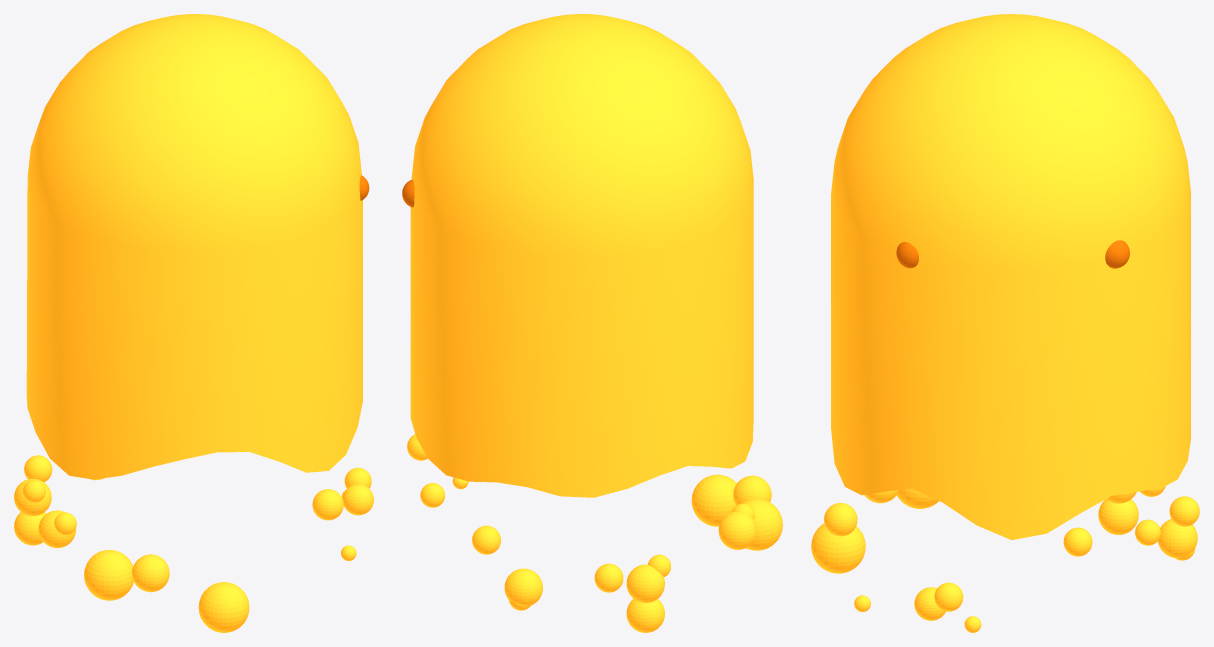
The model's file is ghosts gold.fbx.
3 views of the same model, side by side, from view 1: azimuth 30°, elevation 25°; view 2: azimuth 150°, elevation 25°; view 3: azimuth 270°, elevation 25° (orthographic). The views are drawn at different scales.
Parts seen in each view (by area): view 1: Sphere.049, Sphere.059, Sphere.069, Sphere.060, Sphere.068, Sphere.058, Sphere.070, Sphere.052, Sphere.055, Sphere.053; view 2: Sphere.049, Sphere.059, Sphere.069, Sphere.070, Sphere.052, Sphere.062, Sphere.055, Sphere.060, Sphere.053, Sphere.063; view 3: Sphere.049, Sphere.059, Sphere.062, Sphere.055, Sphere.068, Sphere.063, Sphere.058, Sphere.061, Sphere.071, Sphere.069, Sphere.051, Sphere.066.
Part boxes in pixels (bbox=[...]): Sphere.049: bbox=[26, 14, 362, 479]; Sphere.059: bbox=[198, 582, 249, 632]; Sphere.069: bbox=[84, 549, 133, 600]; Sphere.060: bbox=[132, 554, 169, 592]; Sphere.068: bbox=[312, 489, 343, 520]; Sphere.058: bbox=[342, 484, 373, 515]; Sphere.070: bbox=[38, 510, 76, 548]; Sphere.052: bbox=[14, 478, 51, 515]; Sphere.055: bbox=[14, 512, 46, 545]; Sphere.053: bbox=[24, 455, 52, 482]; Sphere.049: bbox=[410, 14, 753, 497]; Sphere.059: bbox=[691, 474, 736, 526]; Sphere.069: bbox=[742, 498, 782, 550]; Sphere.070: bbox=[718, 511, 757, 549]; Sphere.052: bbox=[626, 564, 664, 602]; Sphere.062: bbox=[504, 568, 542, 605]; Sphere.055: bbox=[626, 599, 664, 632]; Sphere.060: bbox=[733, 475, 771, 505]; Sphere.053: bbox=[594, 563, 623, 592]; Sphere.063: bbox=[472, 525, 500, 554]; Sphere.049: bbox=[831, 14, 1190, 539]; Sphere.059: bbox=[811, 523, 865, 573]; Sphere.062: bbox=[1157, 519, 1197, 557]; Sphere.055: bbox=[1098, 499, 1138, 534]; Sphere.068: bbox=[824, 503, 857, 536]; Sphere.063: bbox=[1169, 496, 1199, 526]; Sphere.058: bbox=[914, 587, 945, 620]; Sphere.061: bbox=[1063, 527, 1092, 556]; Sphere.071: bbox=[934, 582, 963, 611]; Sphere.069: bbox=[896, 488, 938, 508]; Sphere.051: bbox=[1105, 240, 1129, 268]; Sphere.066: bbox=[1135, 519, 1160, 545].
Bounding box in the file's own units: 313 × 516 × 320.
